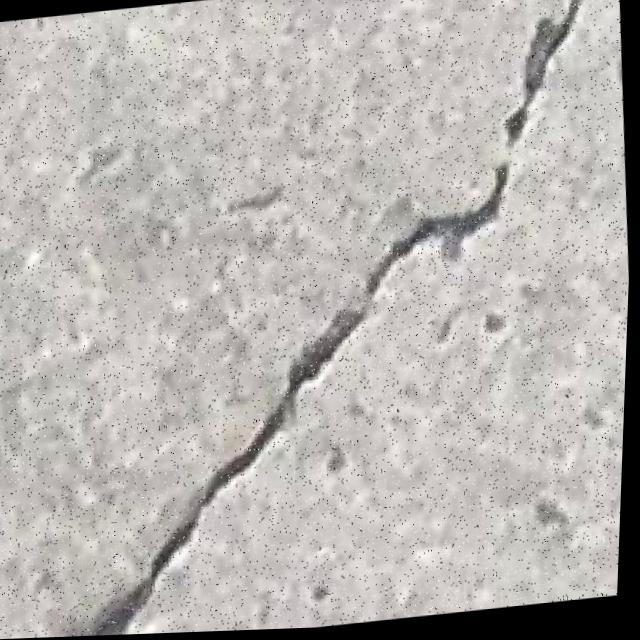Crack: (15, 0, 640, 639)
